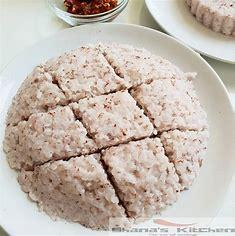Kiribath: (11, 43, 208, 226)
